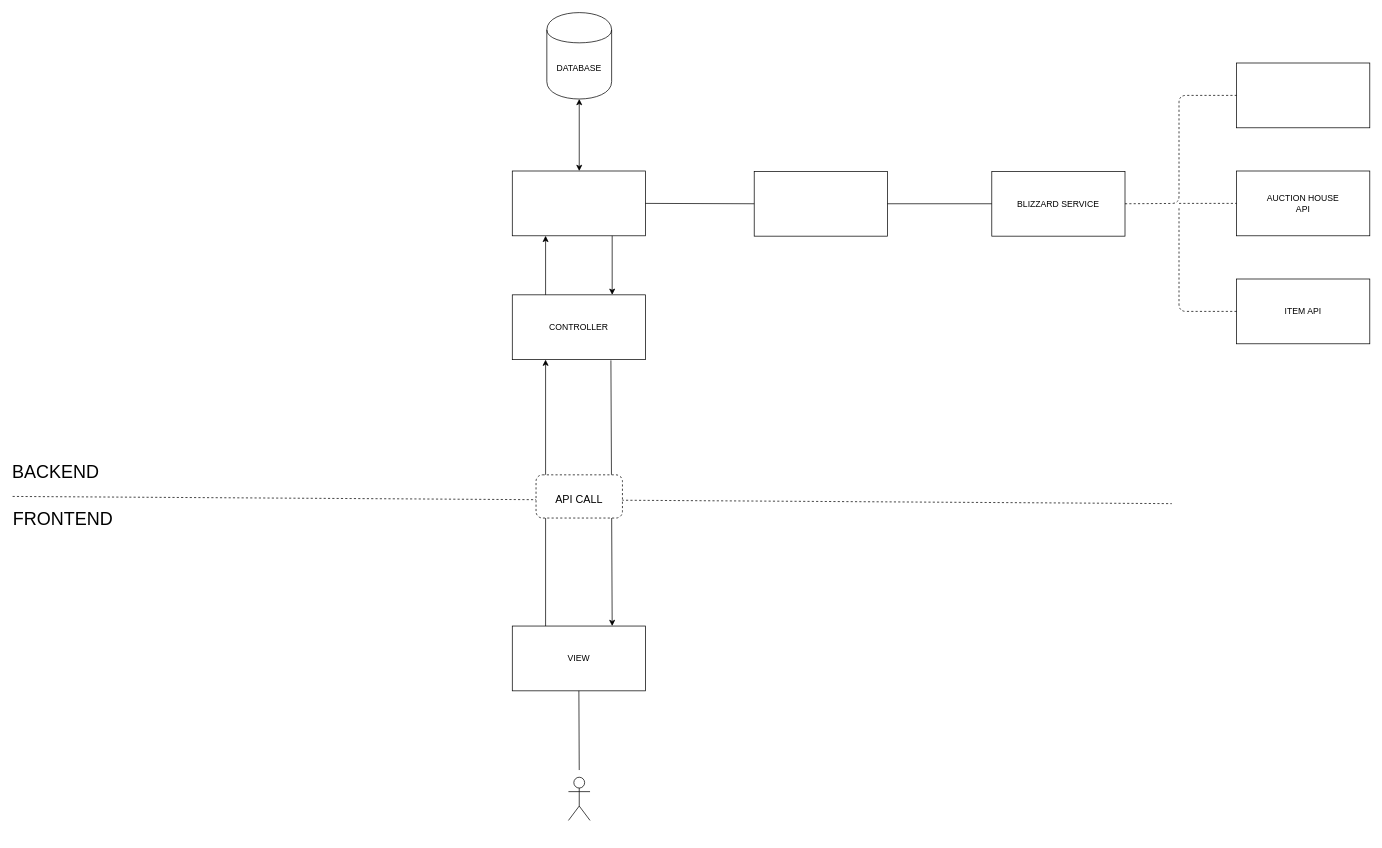
Image size: 1382x848. Some labels were removed from this diagram. Each missing label, with the box of its shape:
CONNECTED REALM API: (1236, 62, 1370, 128)
SCHEDULED TASK SERVICE: (753, 171, 887, 236)
SERVICE: (512, 170, 645, 236)
USER: (568, 777, 590, 820)
